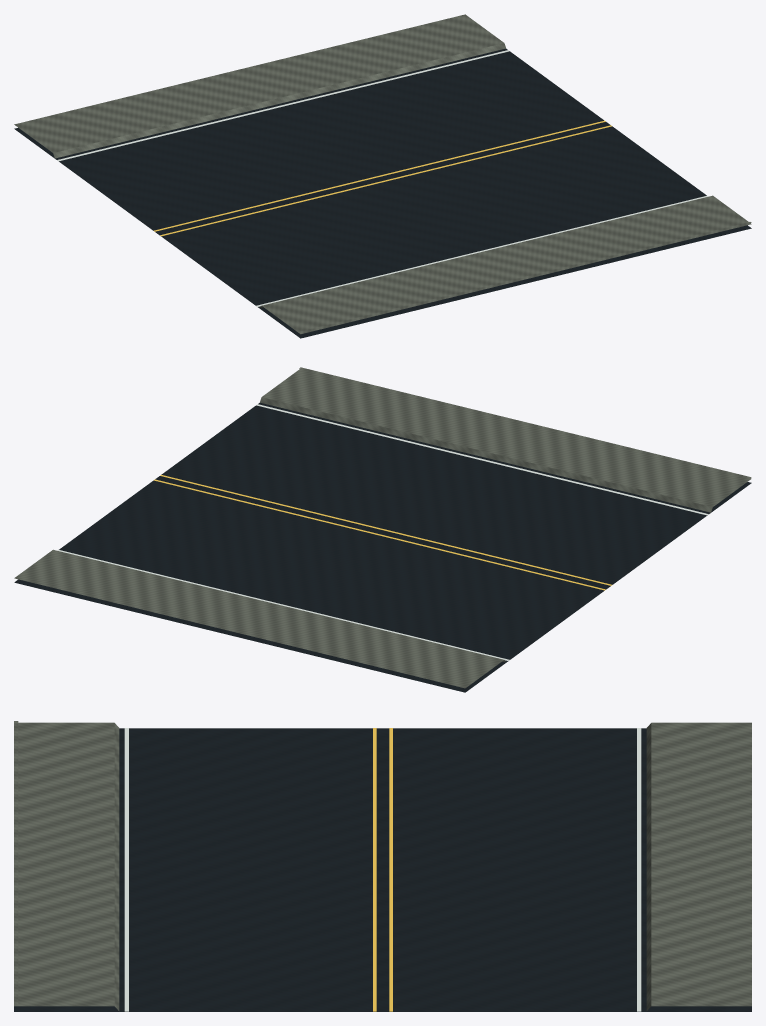
The model's file is road_ring_4lane_16m_LOD2.glb.
3 renders of one model, top to bottom at view 1: azimuth 30°, elevation 25°; view 2: azimuth 150°, elevation 25°; view 3: azimuth 270°, elevation 25°, orthographic. The views are drawn at different scales.
Parts seen in each view (by area): view 1: road_ring_4lane_16m__surface.002, road_ring_4lane_16m__markings.002, road_ring_4lane_16m__outer_curb_and_mounts.002; view 2: road_ring_4lane_16m__surface.002, road_ring_4lane_16m__markings.002, road_ring_4lane_16m__outer_curb_and_mounts.002; view 3: road_ring_4lane_16m__surface.002, road_ring_4lane_16m__markings.002, road_ring_4lane_16m__outer_curb_and_mounts.002.
Part boxes in pixels (x1,y1,x2,y2): road_ring_4lane_16m__surface.002: (14,14,751,338); road_ring_4lane_16m__markings.002: (57,50,707,306); road_ring_4lane_16m__outer_curb_and_mounts.002: (299,222,751,332); road_ring_4lane_16m__surface.002: (14,369,751,692); road_ring_4lane_16m__markings.002: (57,404,708,660); road_ring_4lane_16m__outer_curb_and_mounts.002: (299,367,751,478); road_ring_4lane_16m__surface.002: (14,722,751,1011); road_ring_4lane_16m__markings.002: (124,728,641,1011); road_ring_4lane_16m__outer_curb_and_mounts.002: (14,721,18,1004).
Bounding box in the file's own units: 16 × 0.188 × 17.6.
Materials: 5 (3 with a texture image).
